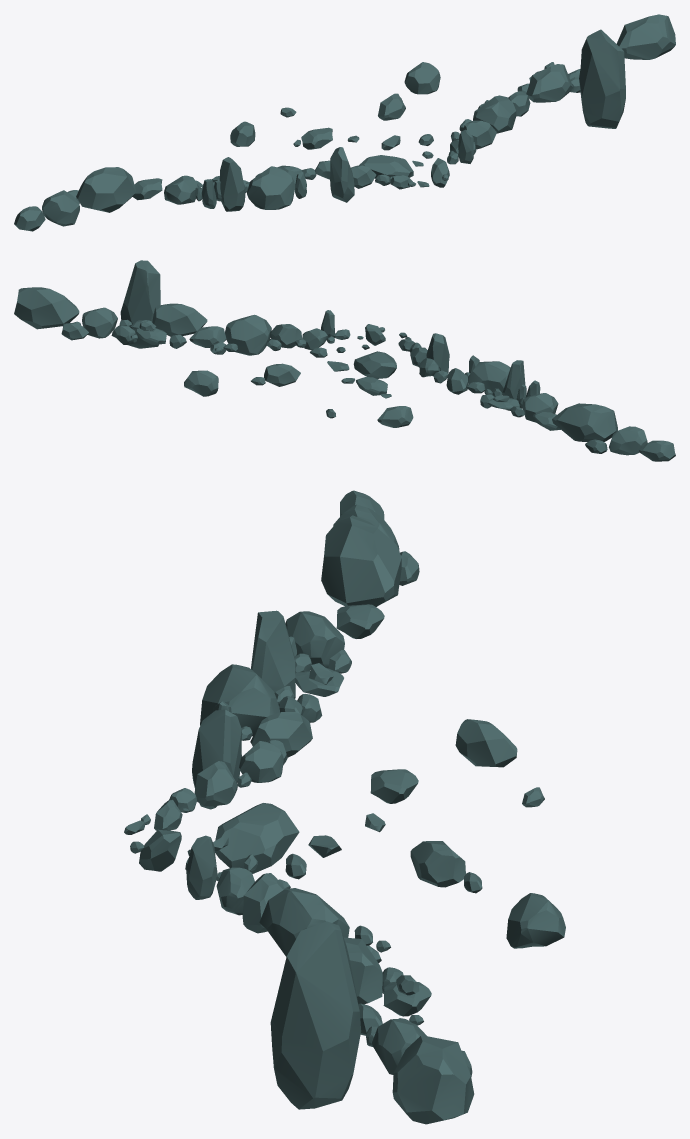
File: TutorialRock.fbx
3 renders of one model, top to bottom at view 1: azimuth 30°, elevation 25°; view 2: azimuth 150°, elevation 25°; view 3: azimuth 270°, elevation 25°, orthographic. The views are drawn at different scales.
Visible parts, largest first — view 1: Door_Cave1_2__1_; view 2: Door_Cave1_2__1_; view 3: Door_Cave1_2__1_.
Part boxes in pixels (bbox=[...]): Door_Cave1_2__1_: bbox=[14, 14, 675, 231]; Door_Cave1_2__1_: bbox=[14, 260, 675, 461]; Door_Cave1_2__1_: bbox=[124, 490, 565, 1124].
Size of the model in its own units: 39290 by 5382 by 11773.
